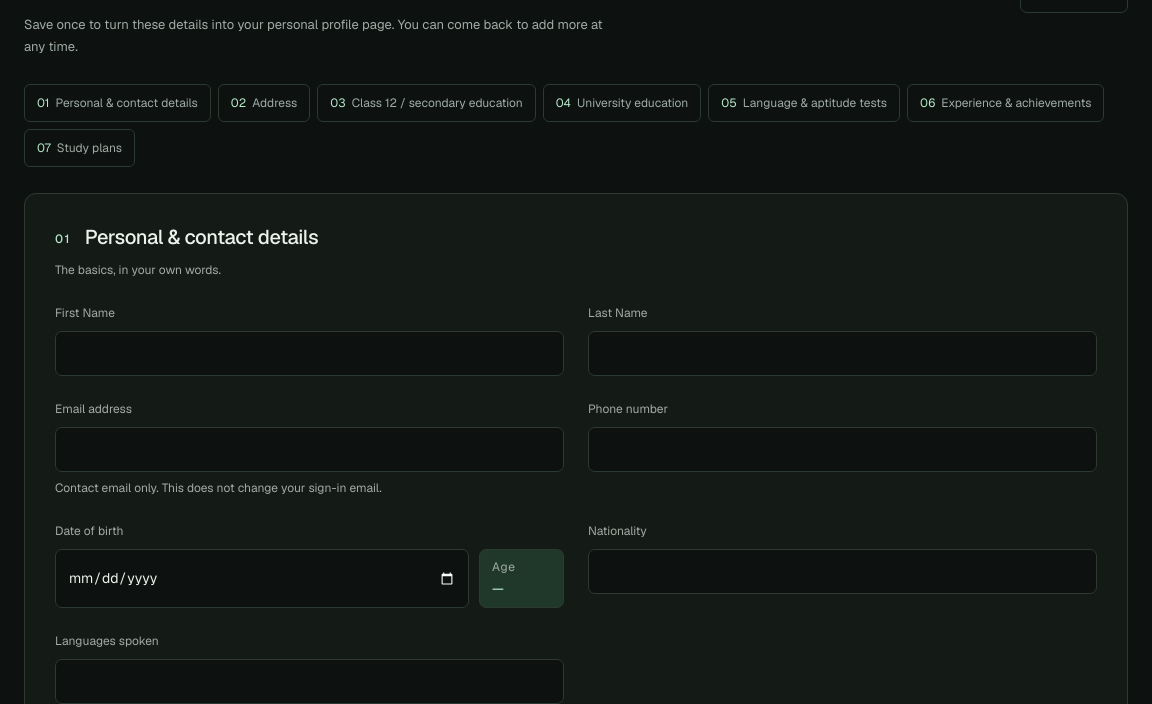
it: profile save failure preserves edits without claiming success, then retries
(page scrolled)
Type "Ada" into the field labelled "First Name" at [310, 354], box x1=55 y1=331 x2=564 y2=376
(page scrolled)
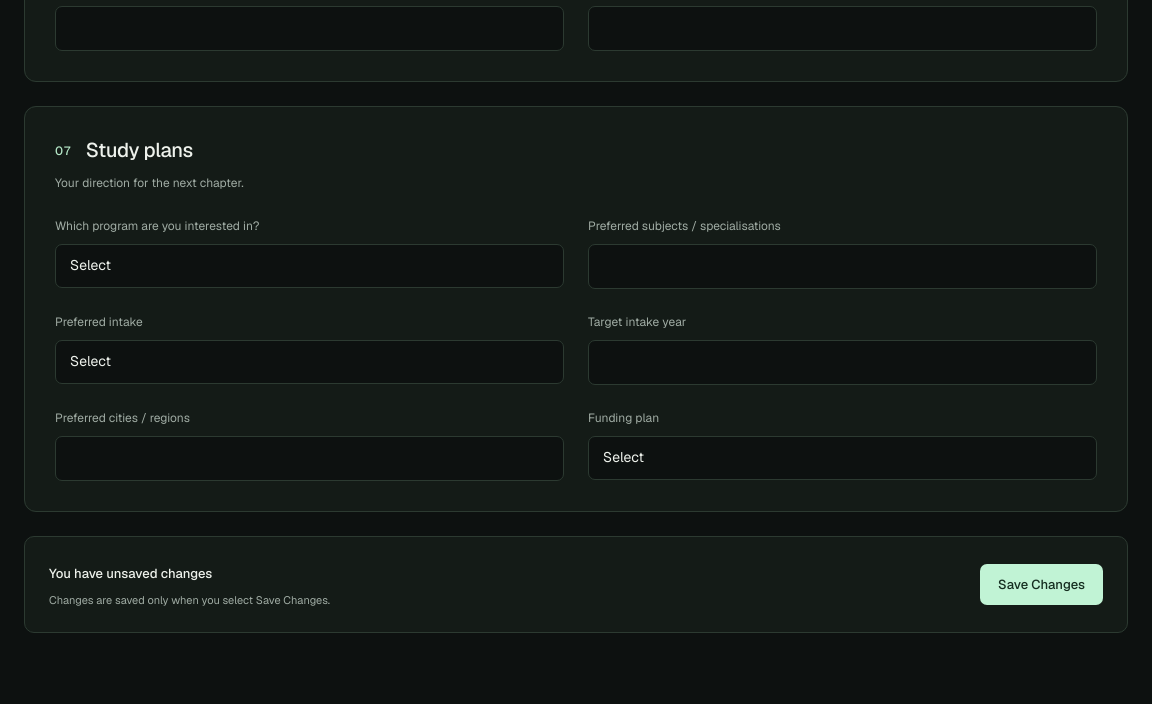
Click the button "Save Changes" at [1042, 585], box x1=980 y1=564 x2=1103 y2=606
(page scrolled)
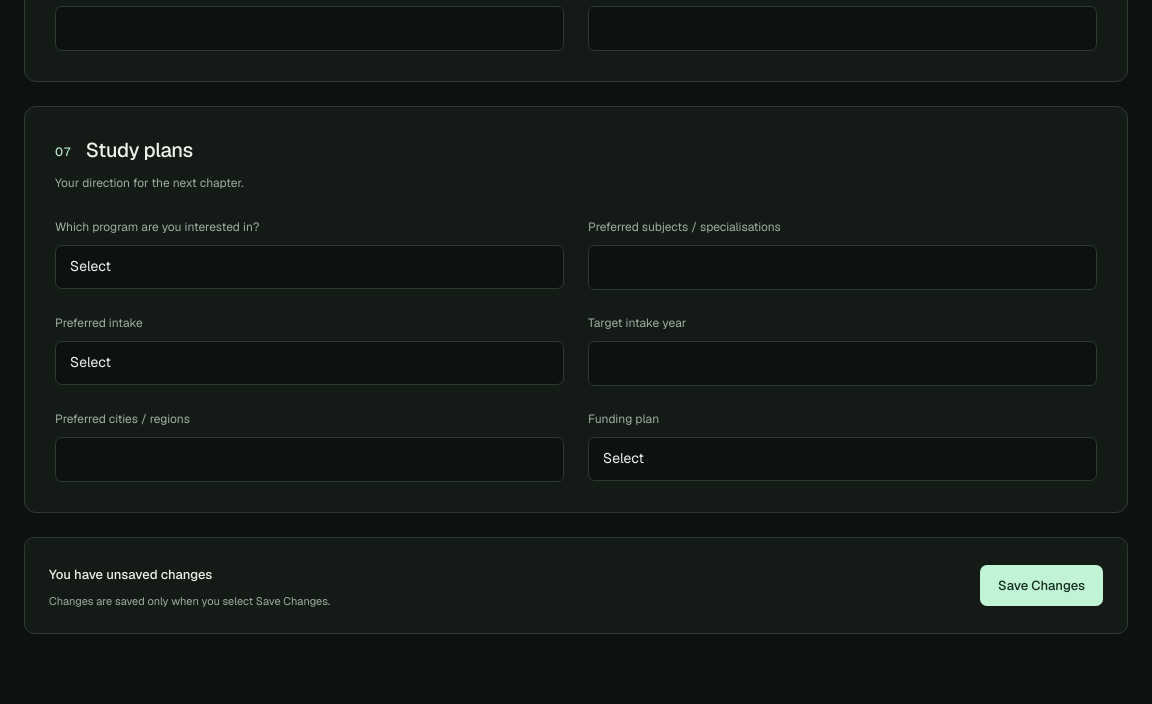
Expected: the text "Saved!" is not shown
Click the button "Save Changes" at [1042, 586], box x1=980 y1=565 x2=1103 y2=606
(page scrolled)
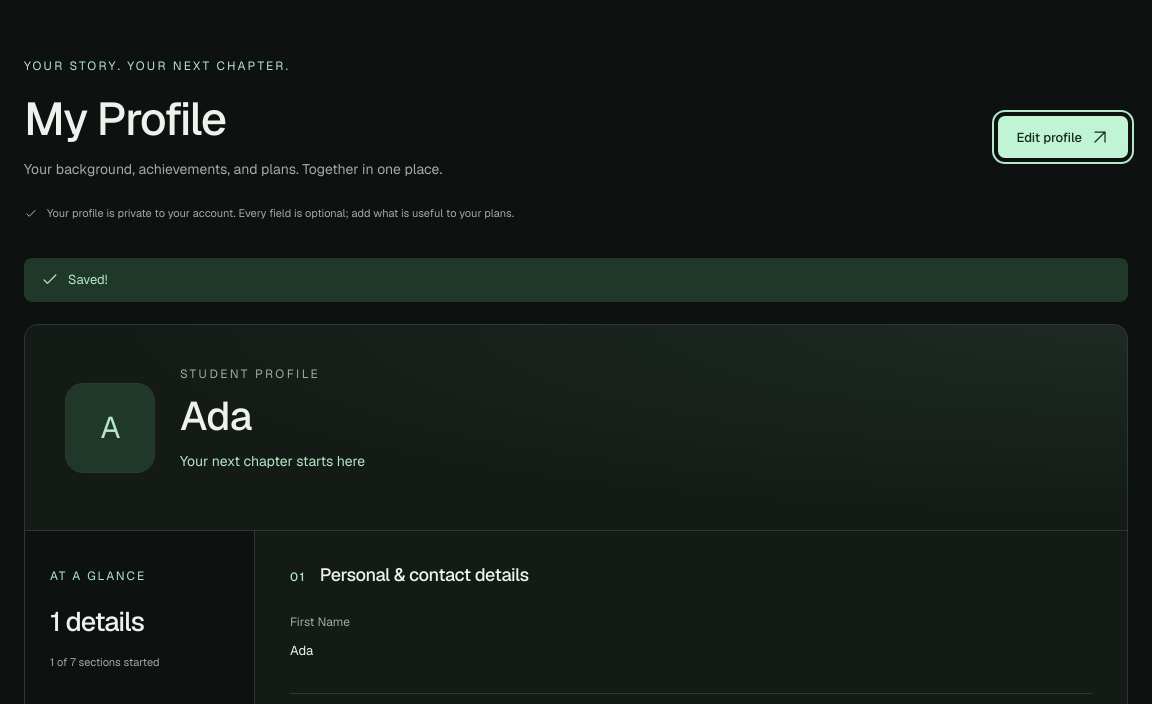
Result: the text "Saved!" is shown at x1=24 y1=258 x2=1128 y2=302
